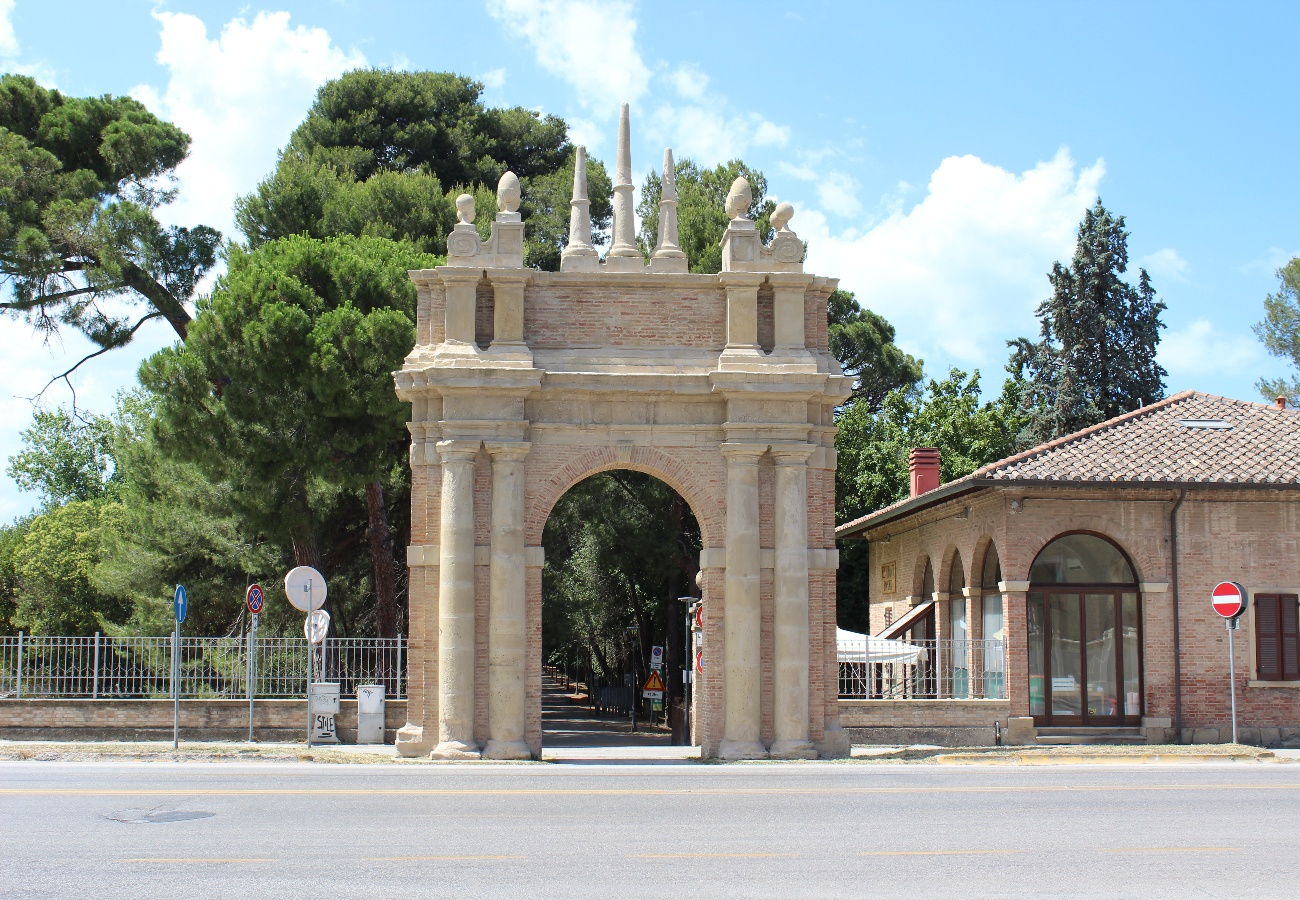Arco di Trionfo: (384, 102, 854, 764)
